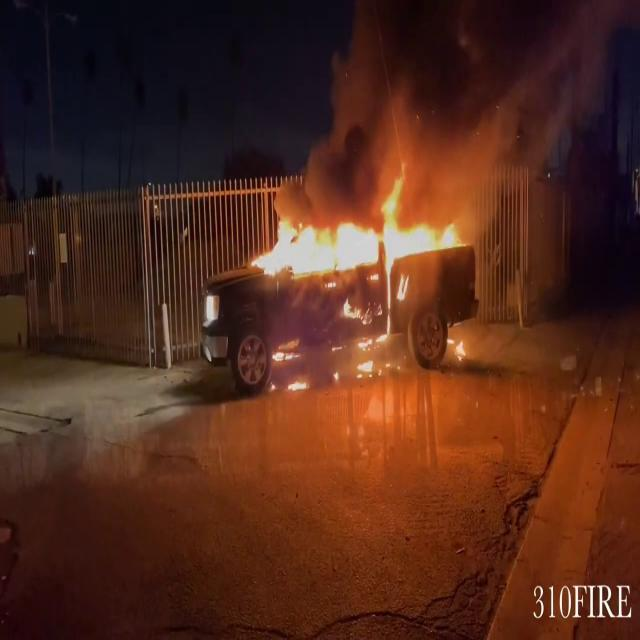Fire: (254, 174, 463, 277)
Smoke: (304, 1, 600, 214)
